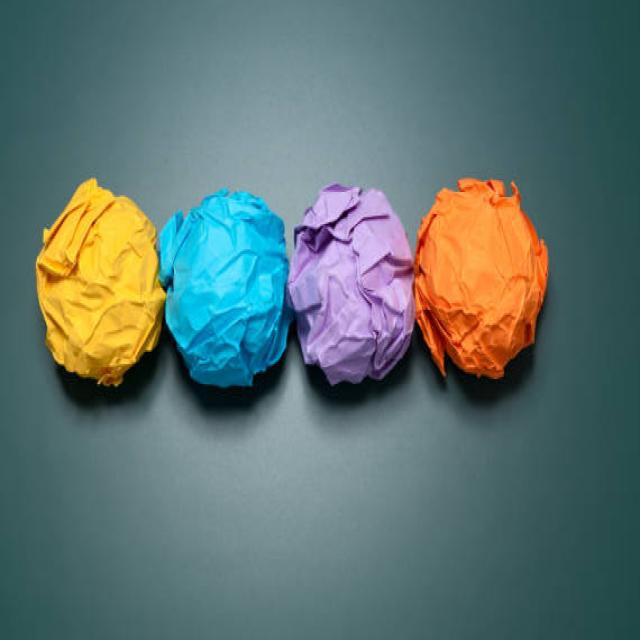electronic: (35, 175, 166, 388), (413, 175, 548, 381), (157, 185, 293, 389), (286, 180, 416, 386)
